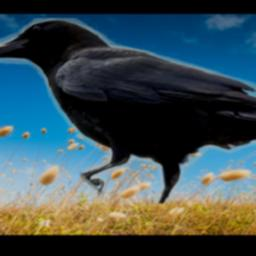Crow: (0, 18, 256, 203)
